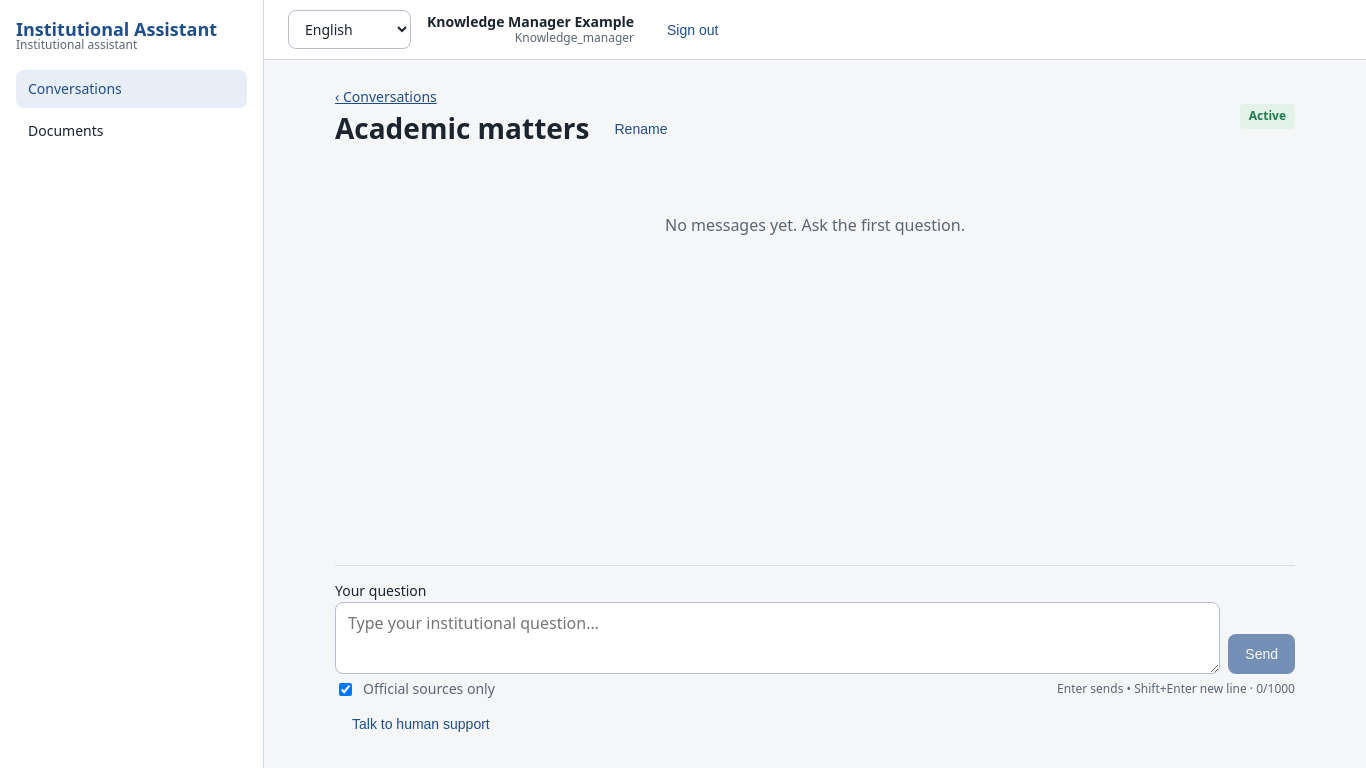
Test: human handoff action › shows a controlled error and keeps the action available when support is unavailable
The image size is (1366, 768).
Click the button "Talk to human support".
click(421, 724)  # box [335,704,507,744]
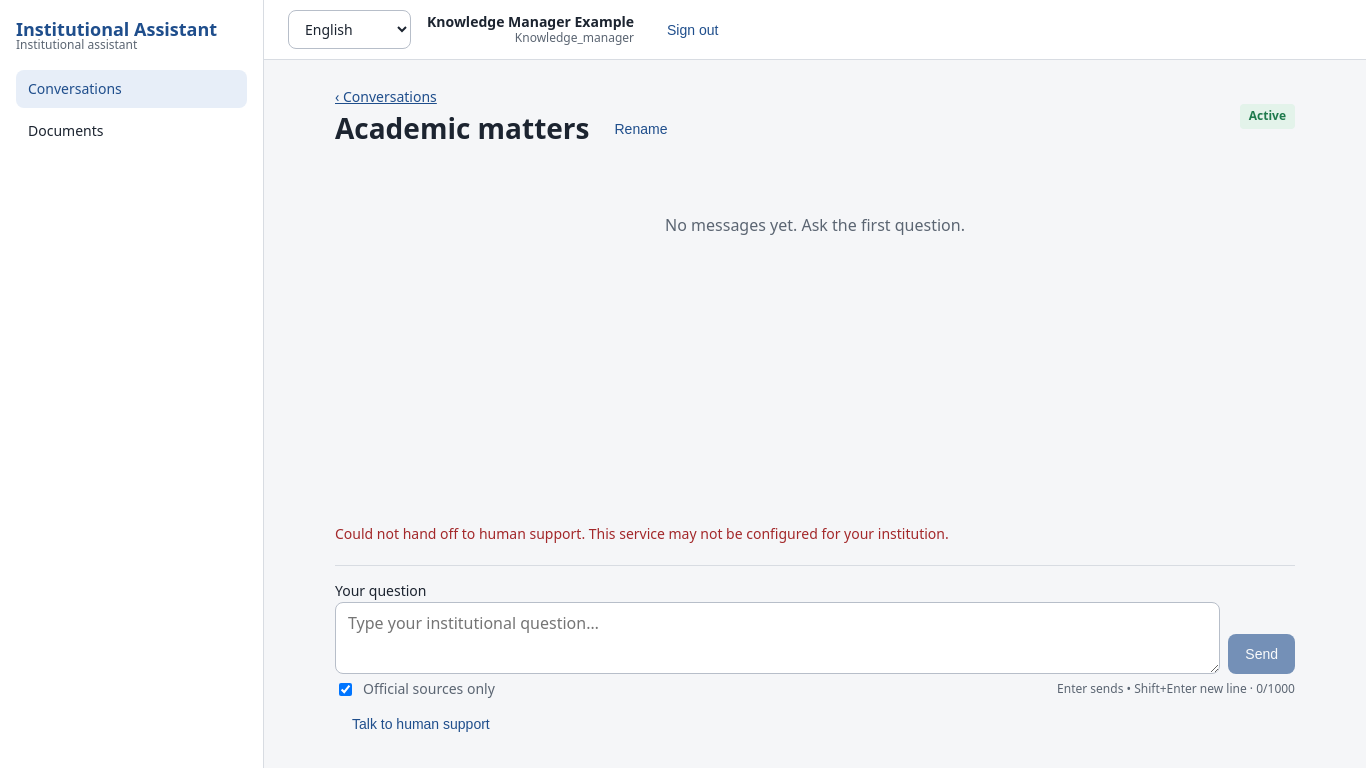
Now the message shows "Could not hand off to human support", box [335,524,949,543]
